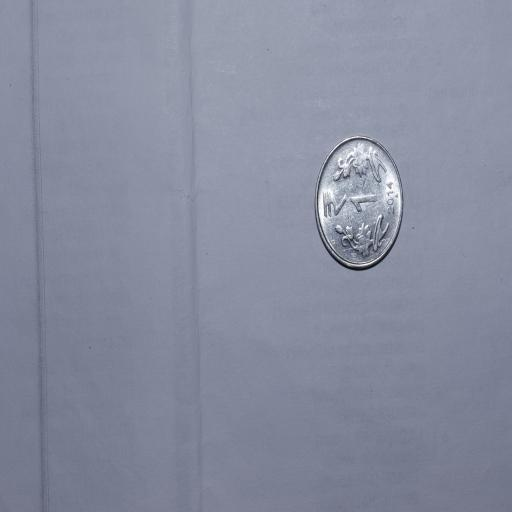rupee1: (314, 136, 404, 269)
